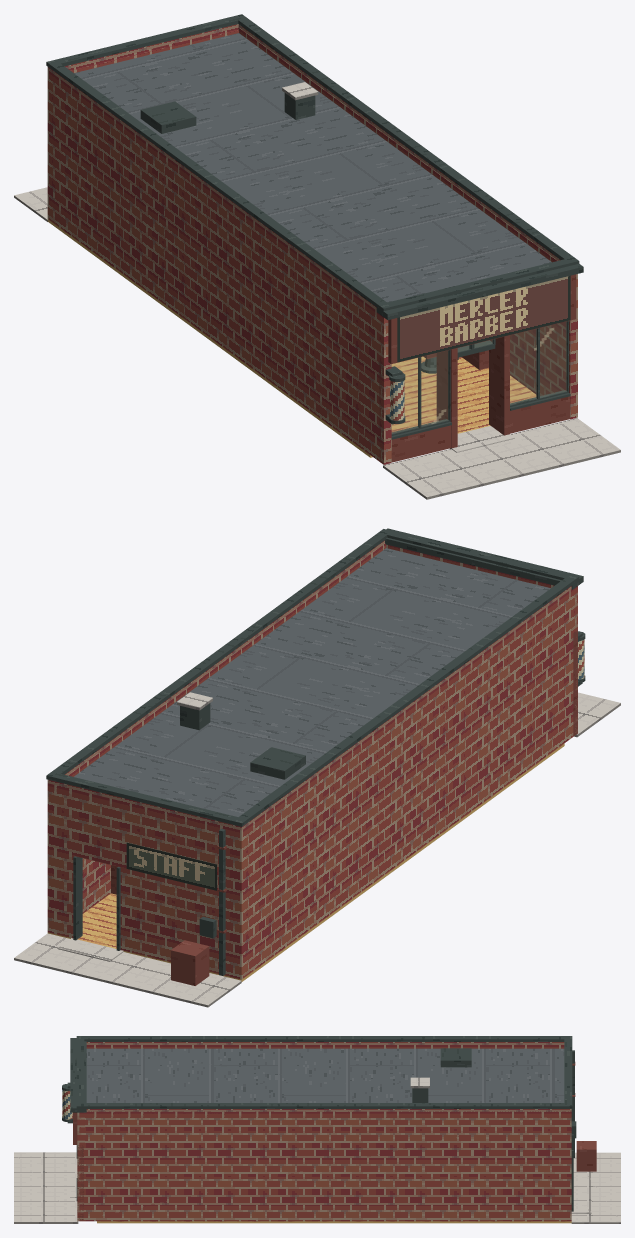
The model's file is barber-1940.glb.
3 views of the same model, one above another, from view 1: azimuth 30°, elevation 25°; view 2: azimuth 150°, elevation 25°; view 3: azimuth 270°, elevation 25° (orthographic). The views are drawn at different scales.
Visible parts, largest first — view 1: shell, lot, sign_name, fixed_interior; view 2: shell, lot, fixed_interior, sign_staff; view 3: shell, lot, fixed_interior.
Part boxes in pixels (<box>): shell: <box>46,14,583,464</box>; lot: <box>14,187,620,499</box>; sign_name: <box>397,275,570,362</box>; fixed_interior: <box>47,219,536,457</box>; shell: <box>46,528,585,979</box>; lot: <box>14,692,620,1007</box>; fixed_interior: <box>47,743,564,981</box>; sign_staff: <box>126,842,216,890</box>; shell: <box>62,1036,591,1221</box>; lot: <box>14,1141,620,1223</box>; fixed_interior: <box>97,1221,571,1223</box>.
Size of what is drawn, in the model's own units: 6.05 by 5.06 by 22.1.
11 materials, 11 textured.
